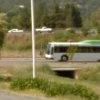Bus: (43, 36, 100, 66)
